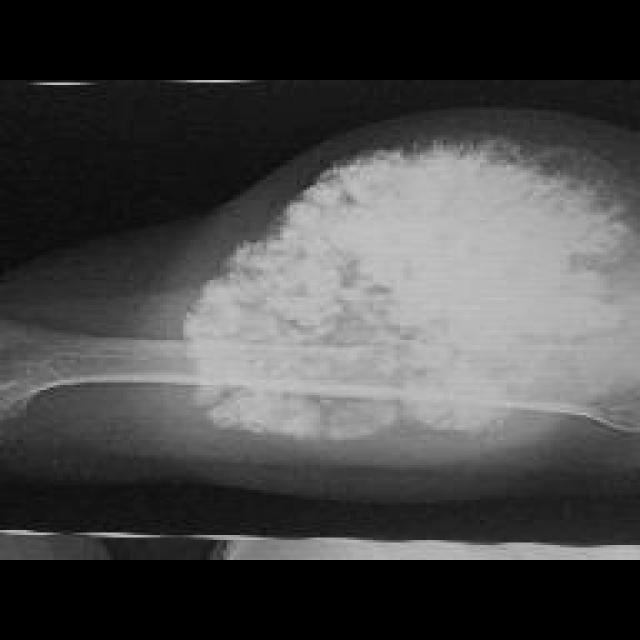bone-cancer: (185, 140, 637, 438)
